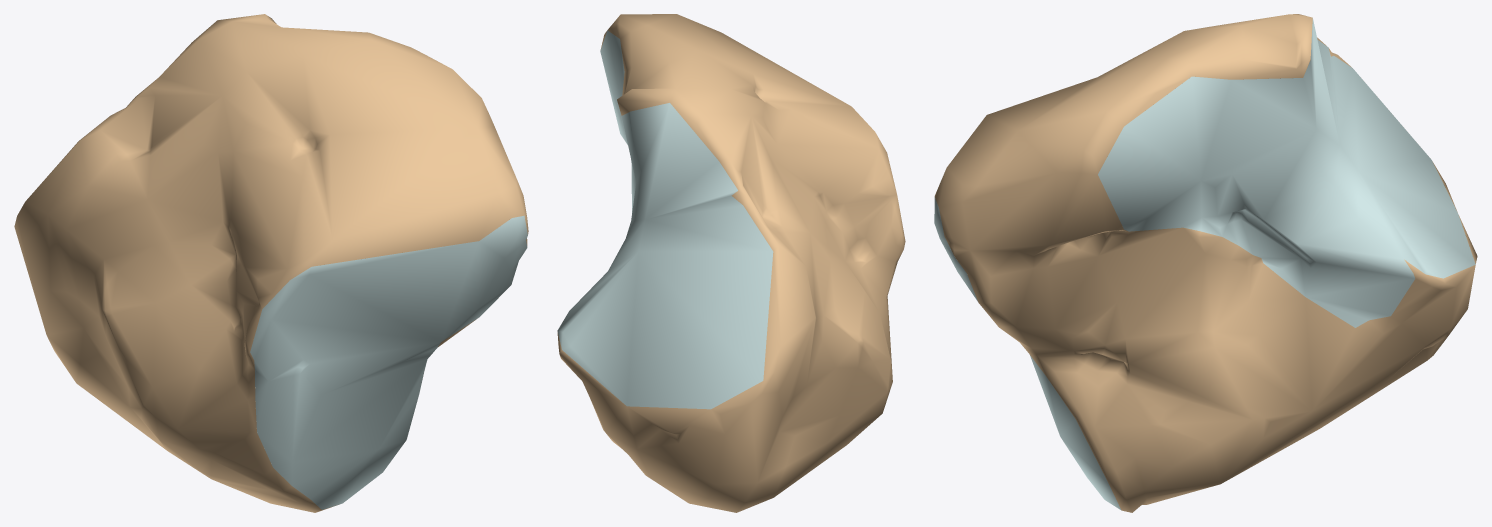
The model's file is Cuneiform_medial_bone_left.glb.
3 renders of one model, left to right at view 1: azimuth 30°, elevation 25°; view 2: azimuth 150°, elevation 25°; view 3: azimuth 270°, elevation 25°, orthographic. The views are drawn at different scales.
Parts seen in each view (by area): view 1: Medial_cuneiform_bone.l_Generated_Mesh_From_X3D.784; view 2: Medial_cuneiform_bone.l_Generated_Mesh_From_X3D.784; view 3: Medial_cuneiform_bone.l_Generated_Mesh_From_X3D.784.
Boxes of the visible parts, x1,y1,x2,y2 form: Medial_cuneiform_bone.l_Generated_Mesh_From_X3D.784: [14, 14, 528, 512]; Medial_cuneiform_bone.l_Generated_Mesh_From_X3D.784: [557, 14, 905, 512]; Medial_cuneiform_bone.l_Generated_Mesh_From_X3D.784: [934, 14, 1477, 512].
Size of the model in its own units: 0.0251 by 0.0323 by 0.033.
